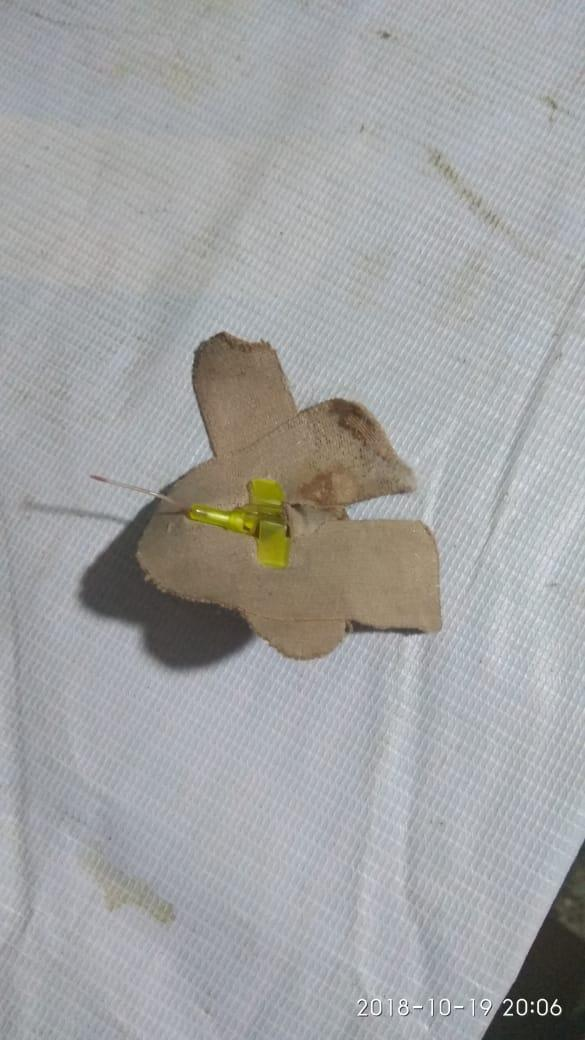bandage: (88, 282, 470, 686)
